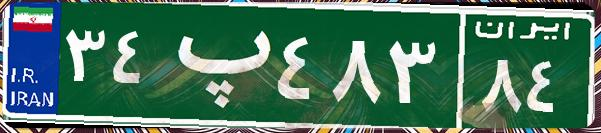3: (385, 28, 445, 110), (57, 26, 110, 107)
4: (273, 28, 330, 110), (110, 28, 158, 105), (525, 38, 570, 115)
8: (330, 28, 385, 110), (475, 38, 525, 113)
پ: (158, 15, 273, 115)
